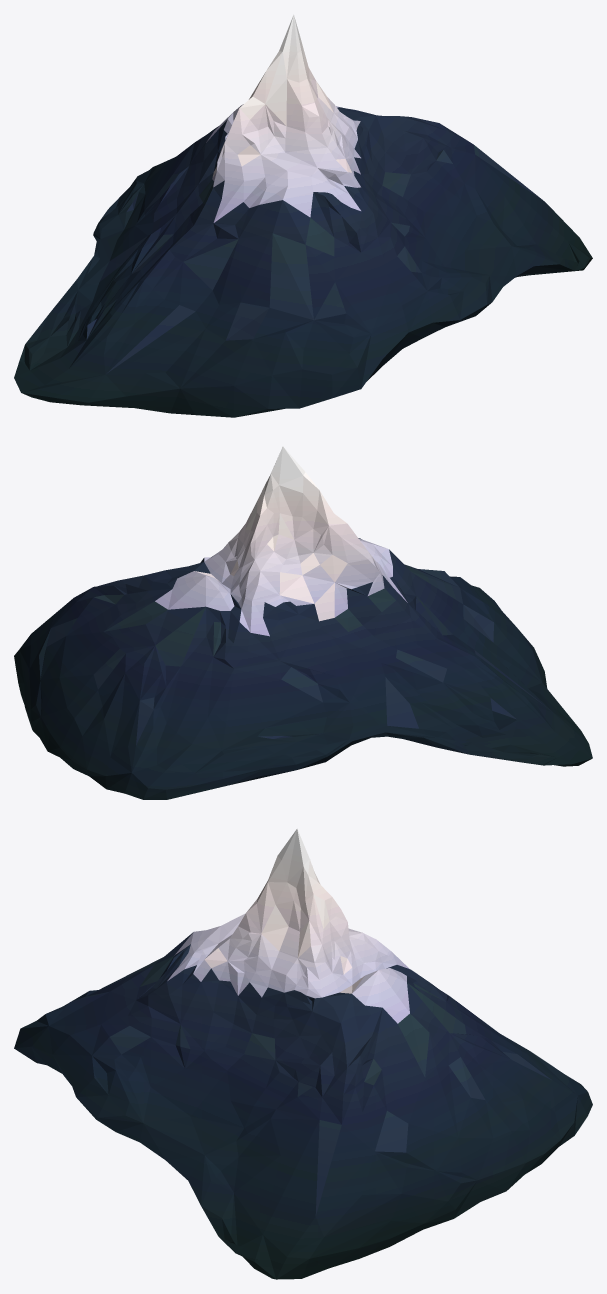
The model's file is Mountain_001.FBX.
The picture shows the model from 3 angles, top to bottom: view 1: azimuth 30°, elevation 25°; view 2: azimuth 150°, elevation 25°; view 3: azimuth 270°, elevation 25°; orthographic projection. The views are drawn at different scales.
Visible parts, largest first — view 1: Mountain_001; view 2: Mountain_001; view 3: Mountain_001.
Part boxes in pixels (box(x1,y1,x2,y2)): Mountain_001: box(14, 14, 592, 417); Mountain_001: box(14, 446, 592, 799); Mountain_001: box(14, 829, 592, 1279).
Size of the model in its own units: 1181 by 994 by 599.
